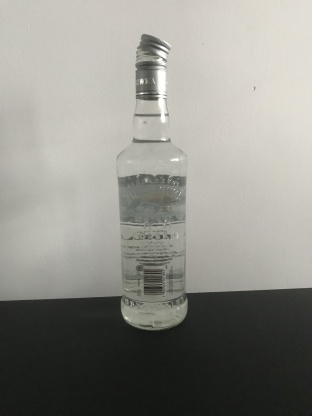nakretka: (132, 29, 172, 100)
